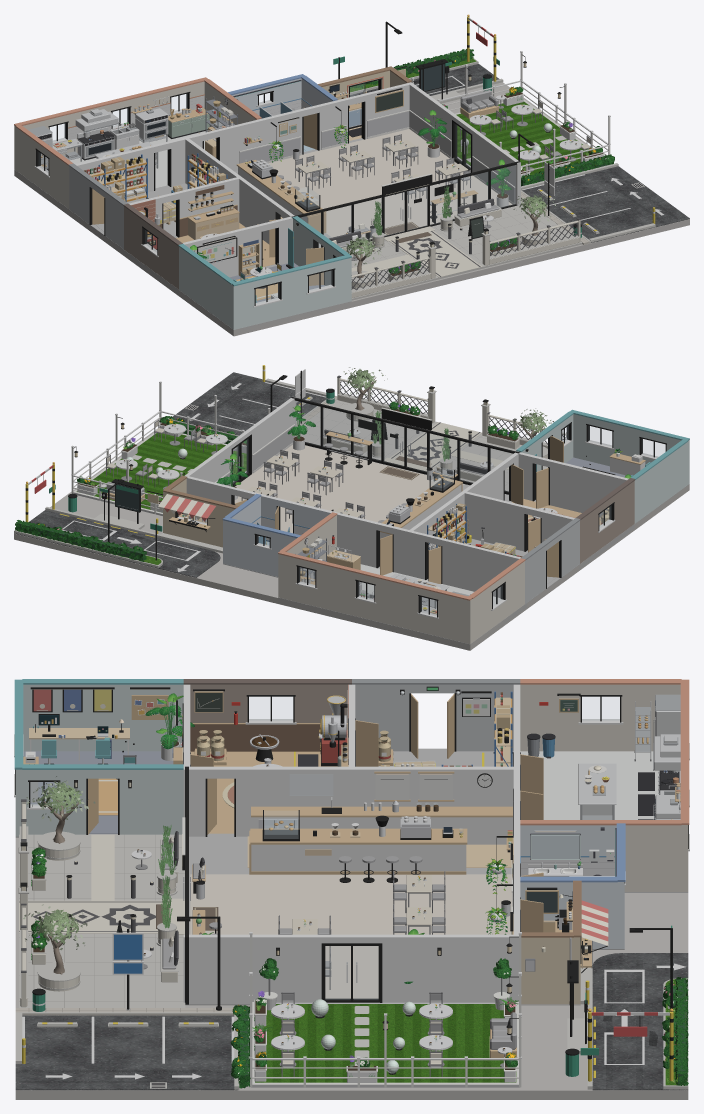
Rendered from cafe_v2.glb.
3 renders of one model, top to bottom at view 1: azimuth 30°, elevation 25°; view 2: azimuth 150°, elevation 25°; view 3: azimuth 270°, elevation 25°, orthographic. The views are drawn at different scales.
Visible parts, largest first — view 1: Base_Flat, Entrance_S01_Flat, ParkingS01AsphaltTex, Base_Mat_0088b002, Entrance_S02_Flat, Salon_S01_Flat, Terrace_S04_Turf, Kitchen_S02_Flat, Storage_S01_Flat, Terrace_S01_Flat, Kitchen_S04_Flat, WC_S03_Flat (+32 smaller); view 2: Base_Flat, Entrance_S01_Flat, Base_Mat_0088b002, ParkingS01AsphaltTex, Terrace_S04_Turf, WC_S01_Flat, DriveThruS01AsphaltTex, Terrace_S01_Flat, Salon_S01_Flat, Entrance_S02_Flat, DriveThru_S01_Flat, Salon_S03_Flat (+23 smaller); view 3: Base_Flat, Entrance_S01_Flat, Salon_S01_Flat, ParkingS01AsphaltTex, Terrace_S04_Turf, DriveThruS01AsphaltTex, Terrace_S01_Flat, Terrace_S05_Flat, WC_S01_Flat, Kitchen_S03_Flat, Kitchen_S02_Flat, Entrance_S05_Flat (+38 smaller).
Part boxes in pixels (<box>): Base_Flat: <box>14,66,689,336</box>; Entrance_S01_Flat: <box>350,173,582,300</box>; ParkingS01AsphaltTex: <box>521,166,689,242</box>; Base_Mat_0088b002: <box>301,165,515,247</box>; Entrance_S02_Flat: <box>351,218,580,297</box>; Salon_S01_Flat: <box>236,144,374,233</box>; Terrace_S04_Turf: <box>456,101,588,175</box>; Kitchen_S02_Flat: <box>28,108,168,170</box>; Storage_S01_Flat: <box>86,153,227,235</box>; Terrace_S01_Flat: <box>437,79,610,175</box>; Kitchen_S04_Flat: <box>167,96,237,157</box>; WC_S03_Flat: <box>232,78,332,115</box>; Base_Flat: <box>14,396,689,650</box>; Entrance_S01_Flat: <box>296,399,547,491</box>; Base_Mat_0088b002: <box>296,401,511,491</box>; ParkingS01AsphaltTex: <box>172,372,326,435</box>; Terrace_S04_Turf: <box>76,433,246,509</box>; WC_S01_Flat: <box>222,493,301,577</box>; DriveThruS01AsphaltTex: <box>14,510,220,577</box>; Terrace_S01_Flat: <box>71,410,251,515</box>; Salon_S01_Flat: <box>285,477,462,538</box>; Entrance_S02_Flat: <box>337,375,566,458</box>; DriveThru_S01_Flat: <box>45,507,222,571</box>; Salon_S03_Flat: <box>263,431,457,522</box>; Base_Flat: <box>14,679,689,1099</box>; Entrance_S01_Flat: <box>19,817,218,1007</box>; Salon_S01_Flat: <box>249,806,512,934</box>; ParkingS01AsphaltTex: <box>15,1015,237,1090</box>; Terrace_S04_Turf: <box>255,1004,516,1082</box>; DriveThruS01AsphaltTex: <box>592,953,688,1090</box>; Terrace_S01_Flat: <box>249,943,521,1087</box>; Terrace_S05_Flat: <box>249,932,521,1087</box>; WC_S01_Flat: <box>520,823,625,949</box>; Kitchen_S03_Flat: <box>527,701,651,819</box>; Kitchen_S02_Flat: <box>638,694,680,819</box>; Entrance_S05_Flat: <box>23,776,182,991</box>.
Size of the model in its own units: 24.11 by 3.46 by 20.09.
Materials: 5 (3 with a texture image).
